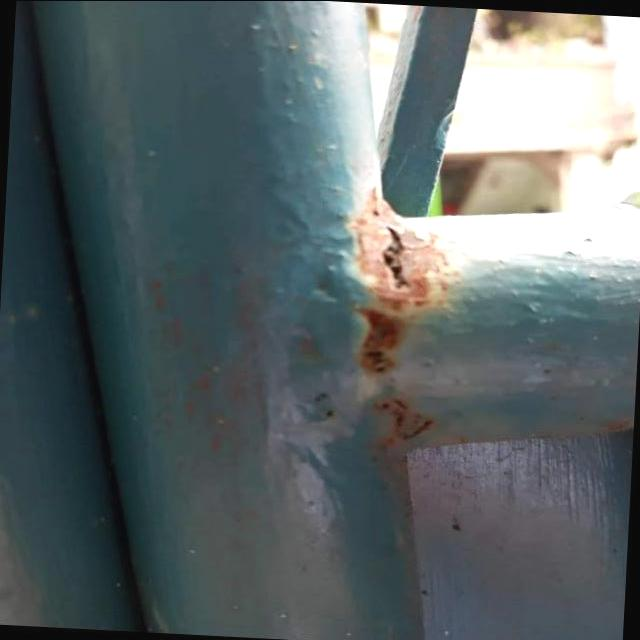defect: (379, 222, 422, 297)
